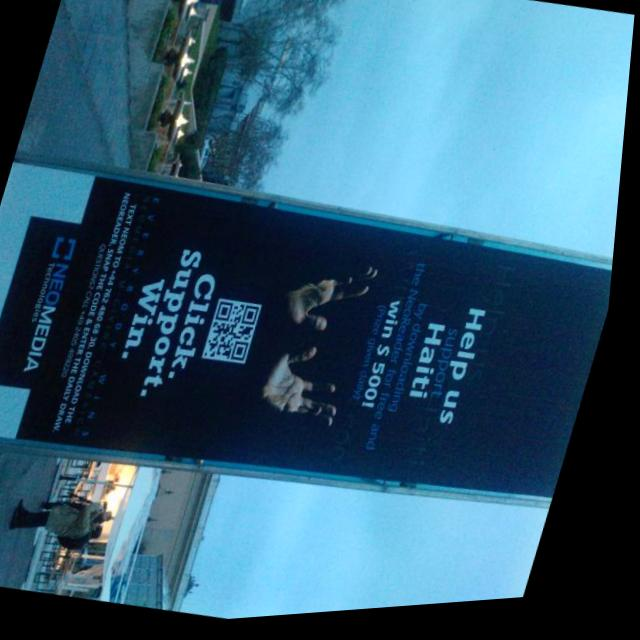qrcode: (211, 303, 265, 367)
